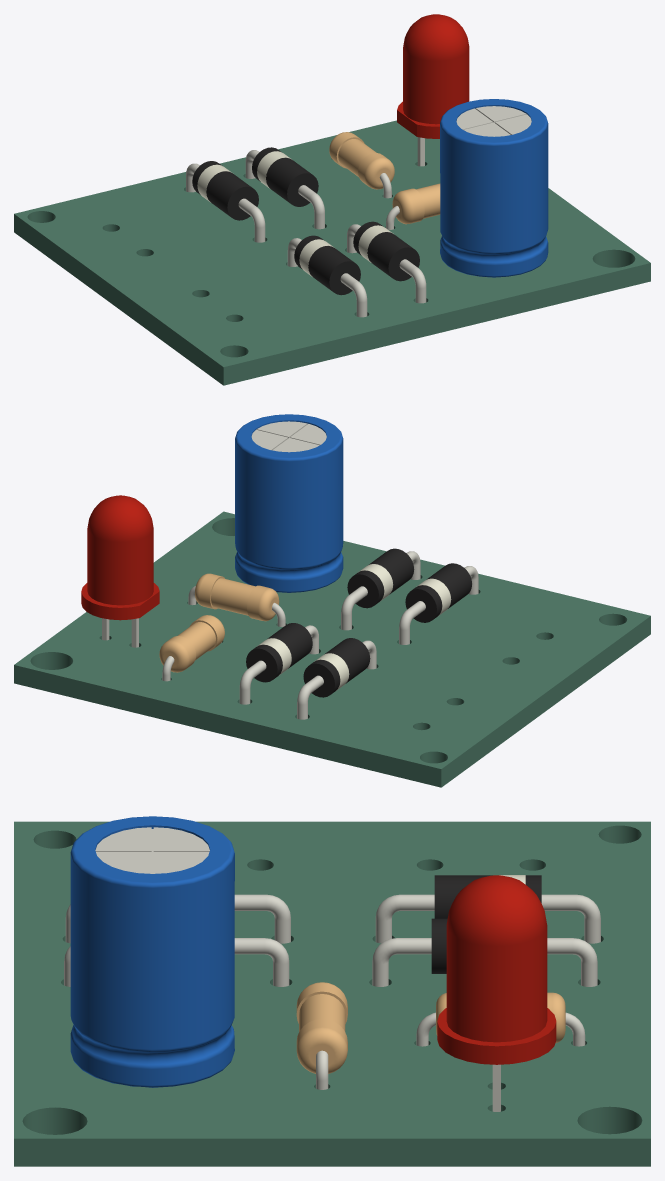
3 views of the same model, one above another, from view 1: azimuth 30°, elevation 25°; view 2: azimuth 150°, elevation 25°; view 3: azimuth 270°, elevation 25° (orthographic). The views are drawn at different scales.
Visible parts, largest first — view 1: =>[0:1:1:10], =>[0:1:1:9], =>[0:1:1:3] (×4), =>[0:1:1:5], =>[0:1:1:7] (×2); view 2: =>[0:1:1:10], =>[0:1:1:9], =>[0:1:1:3] (×4), =>[0:1:1:5], =>[0:1:1:7] (×2); view 3: =>[0:1:1:10], =>[0:1:1:9], =>[0:1:1:5], =>[0:1:1:3] (×4), =>[0:1:1:7] (×2).
Boxes of the visible parts, left/top/right/bottom form: =>[0:1:1:10]: left=14, top=120, right=650, bottom=385; =>[0:1:1:9]: left=440, top=99, right=548, bottom=277; =>[0:1:1:3] (×4): left=186, top=147, right=426, bottom=317; =>[0:1:1:5]: left=397, top=14, right=469, bottom=166; =>[0:1:1:7] (×2): left=329, top=132, right=440, bottom=229; =>[0:1:1:10]: left=14, top=511, right=650, bottom=787; =>[0:1:1:9]: left=235, top=414, right=343, bottom=592; =>[0:1:1:3] (×4): left=239, top=548, right=478, bottom=719; =>[0:1:1:5]: left=81, top=495, right=159, bottom=647; =>[0:1:1:7] (×2): left=159, top=573, right=285, bottom=681; =>[0:1:1:10]: left=14, top=821, right=650, bottom=1166; =>[0:1:1:9]: left=70, top=816, right=234, bottom=1087; =>[0:1:1:5]: left=437, top=875, right=556, bottom=1111; =>[0:1:1:3] (×4): left=64, top=875, right=600, bottom=986; =>[0:1:1:7] (×2): left=296, top=982, right=585, bottom=1089.
Bounding box in the file's own units: 0.0365 × 0.0146 × 0.031.
